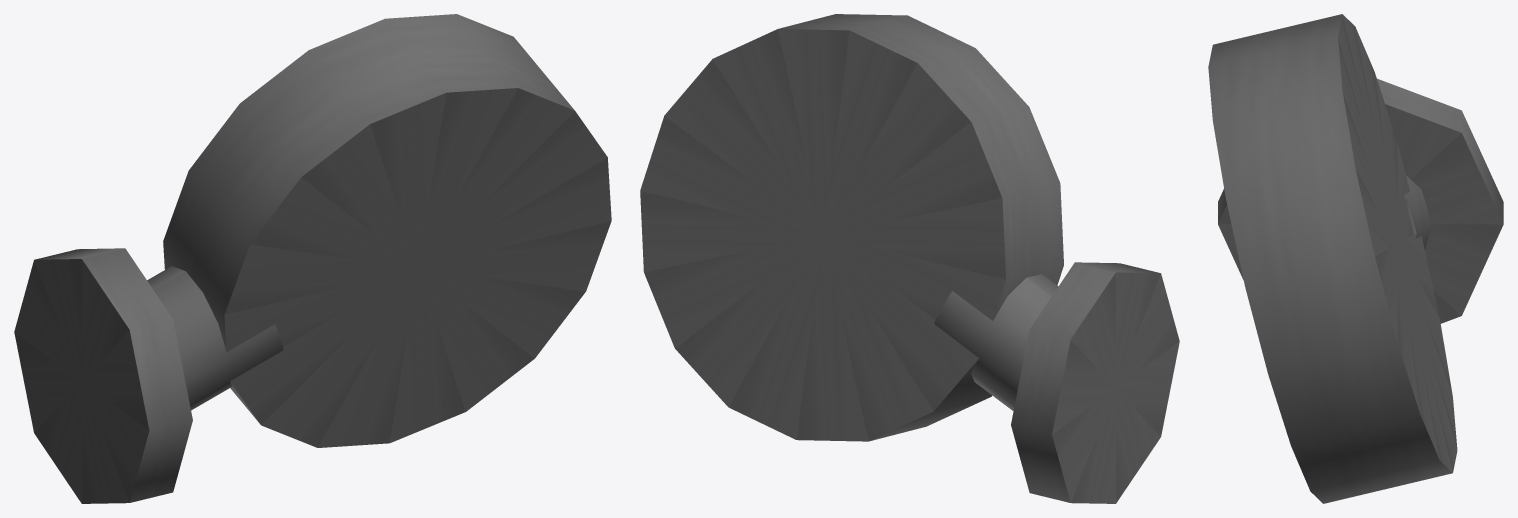
The model's file is mastarmcurve_10x2_c4_west.obj.
3 renders of one model, left to right at view 1: azimuth 30°, elevation 25°; view 2: azimuth 150°, elevation 25°; view 3: azimuth 270°, elevation 25°, orthographic. The views are drawn at different scales.
Parts seen in each view (by area): view 1: mastarm_10x2_c4_west; view 2: mastarm_10x2_c4_west; view 3: mastarm_10x2_c4_west.
Boxes of the visible parts, bbox=[...] form: mastarm_10x2_c4_west: bbox=[14, 14, 611, 503]; mastarm_10x2_c4_west: bbox=[640, 14, 1179, 503]; mastarm_10x2_c4_west: bbox=[1208, 14, 1503, 503].
Bounding box in the file's own units: 0.8301 × 0.6885 × 0.4135.
